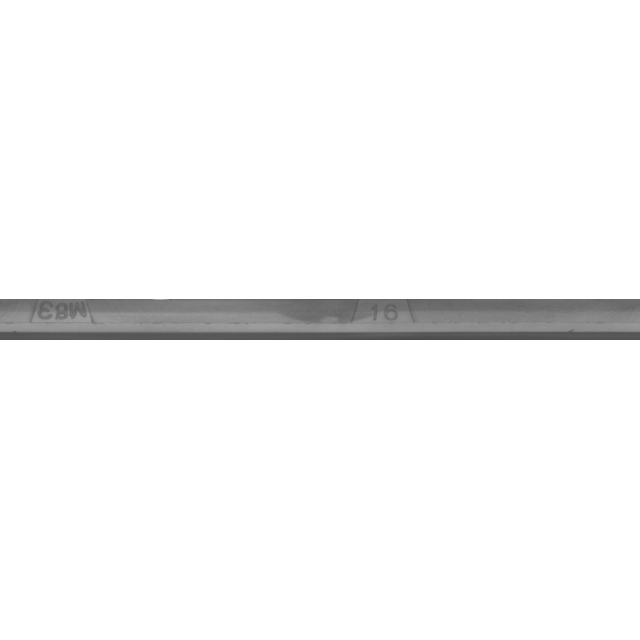mohao: (0, 270, 149, 370)
xuehao: (284, 270, 484, 370)
